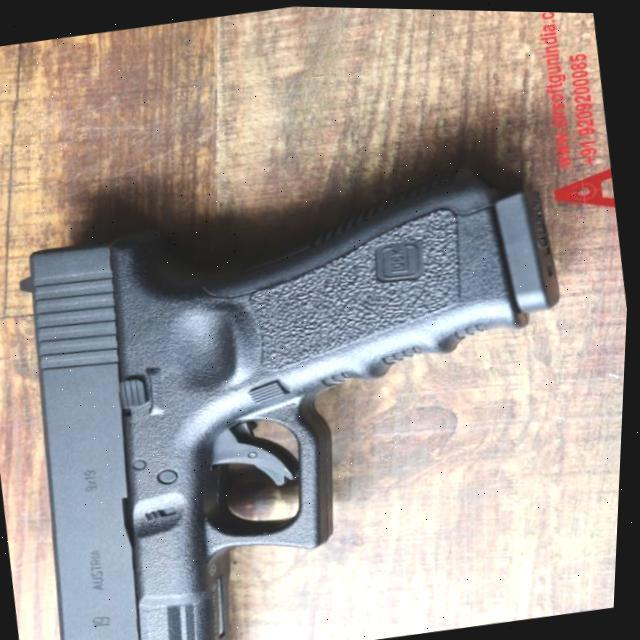gun: (0, 112, 631, 640)
